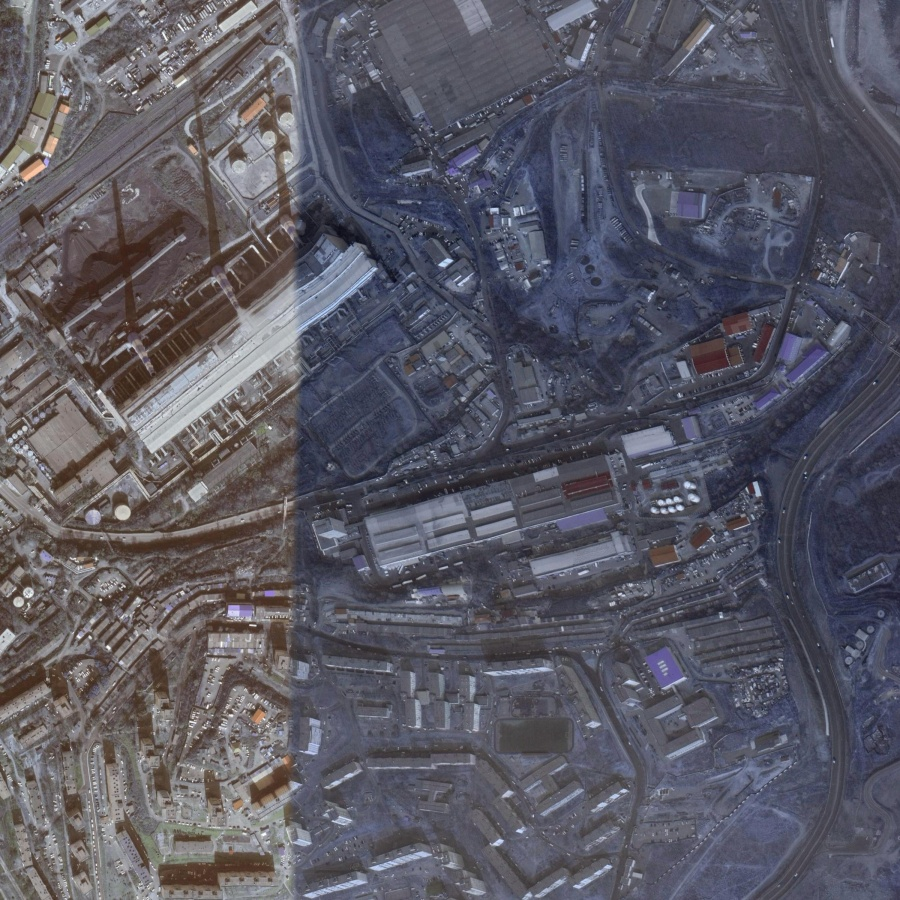PowerPlant: (46, 88, 374, 456)
